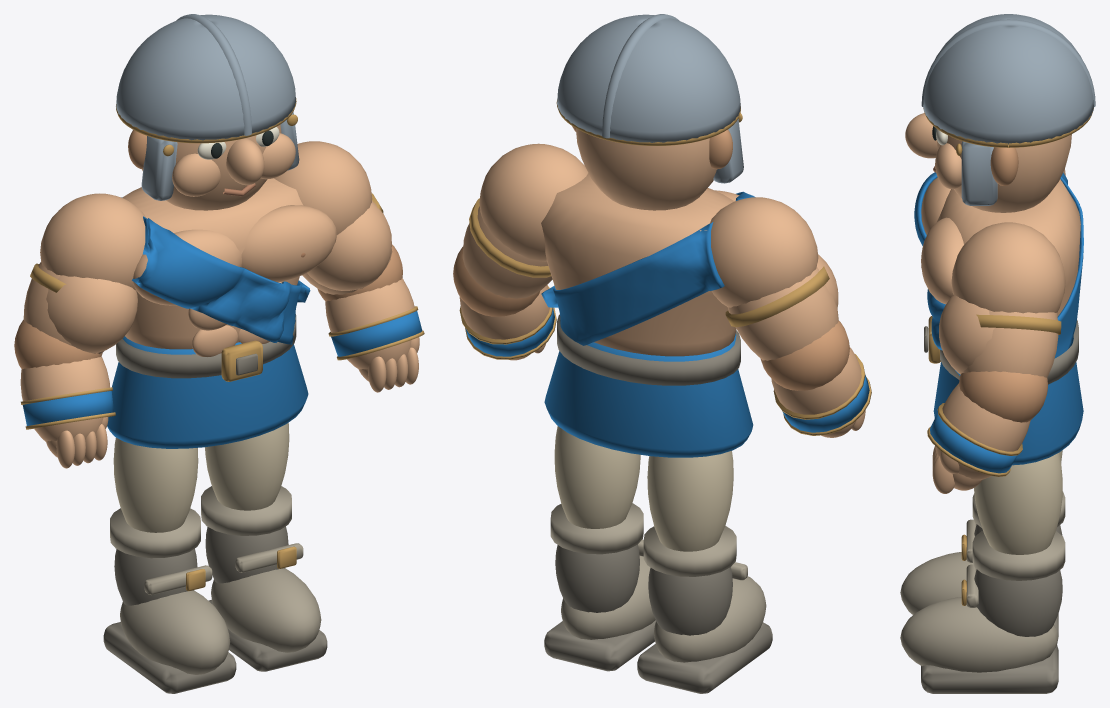
The model's file is krachtpatser_junior.glb.
3 renders of one model, left to right at view 1: azimuth 30°, elevation 25°; view 2: azimuth 150°, elevation 25°; view 3: azimuth 270°, elevation 25°, orthographic. The views are drawn at different scales.
Visible parts, largest first — view 1: Helmet_dome, TEAM_Felt_kilt, TEAM_Broad_felt_sash, Right_Deltoid, Bare_torso, Felt_boot_toe, Felt_boot_toe.001, Trouser_leg, Pectoral.001, Right_Biceps, Trouser_leg.001, Left_Deltoid (+27 smaller); view 2: Helmet_dome, Bare_torso, TEAM_Felt_kilt, TEAM_Broad_felt_sash, Right_Deltoid, Head, Left_Deltoid, Trouser_leg, Trouser_leg.001, Right_UpperArm, Felt_waistband, Felt_boot_shaft (+21 smaller); view 3: Helmet_dome, Left_Deltoid, Felt_boot_toe.001, Trouser_leg.001, Bare_torso, Felt_boot_shaft.001, TEAM_Felt_kilt, Head, Felt_boot_sole.001, Left_UpperArm, Left_Elbow, Left_Forearm (+23 smaller).
Part boxes in pixels (x1,y1,x2,y2): Helmet_dome: [116, 14, 295, 140]; TEAM_Felt_kilt: [107, 336, 308, 448]; TEAM_Broad_felt_sash: [121, 197, 310, 344]; Right_Deltoid: [40, 193, 145, 294]; Bare_torso: [122, 178, 303, 349]; Felt_boot_toe: [120, 590, 230, 674]; Felt_boot_toe.001: [211, 568, 321, 652]; Trouser_leg: [113, 437, 198, 532]; Pectoral.001: [241, 205, 336, 282]; Right_Biceps: [46, 275, 137, 353]; Trouser_leg.001: [205, 423, 289, 510]; Left_Deltoid: [274, 141, 372, 234]; Helmet_dome: [557, 14, 740, 142]; Bare_torso: [541, 173, 736, 356]; TEAM_Felt_kilt: [544, 333, 753, 457]; TEAM_Broad_felt_sash: [541, 191, 755, 345]; Right_Deltoid: [710, 197, 818, 307]; Head: [576, 128, 716, 210]; Left_Deltoid: [479, 143, 588, 261]; Trouser_leg: [647, 451, 733, 551]; Trouser_leg.001: [554, 426, 640, 528]; Right_UpperArm: [727, 267, 838, 360]; Felt_waistband: [557, 314, 740, 385]; Felt_boot_shaft: [648, 567, 732, 635]; Helmet_dome: [923, 14, 1093, 144]; Left_Deltoid: [951, 222, 1065, 313]; Felt_boot_toe.001: [900, 597, 1058, 672]; Trouser_leg.001: [974, 453, 1062, 554]; Bare_torso: [937, 179, 1080, 316]; Felt_boot_shaft.001: [974, 569, 1062, 636]; TEAM_Felt_kilt: [933, 362, 1083, 465]; Head: [937, 134, 1071, 212]; Felt_boot_sole.001: [921, 645, 1058, 693]; Left_UpperArm: [963, 310, 1058, 377]; Left_Elbow: [959, 371, 1047, 422]; Left_Forearm: [935, 383, 1030, 480].
Size of the model in its own units: 1.32 by 2.04 by 0.568.
